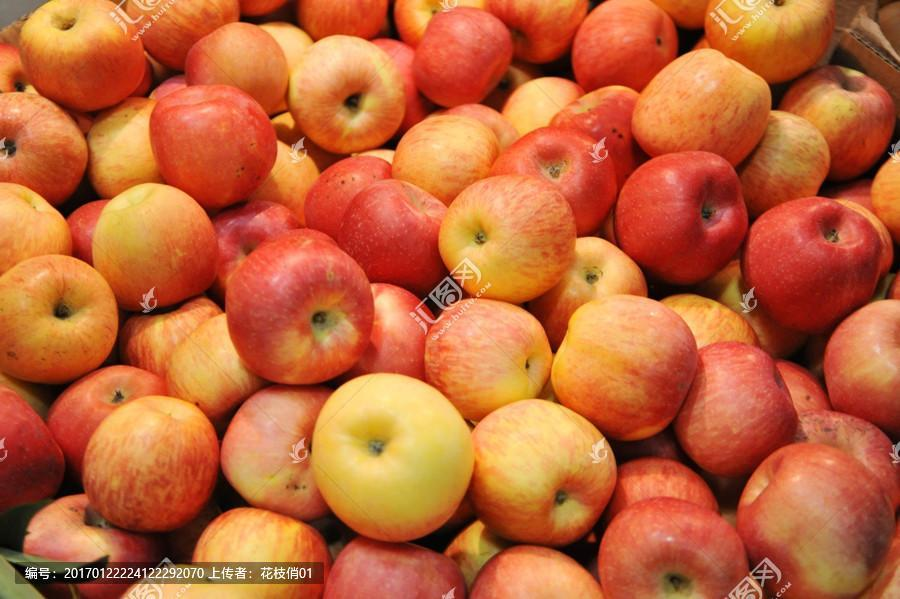apple: (310, 373, 474, 543), (734, 432, 895, 593), (222, 229, 375, 387), (551, 292, 697, 444), (743, 195, 888, 342), (612, 150, 749, 287), (81, 184, 221, 316), (437, 173, 577, 303), (76, 387, 207, 523), (423, 293, 555, 422), (148, 84, 273, 209), (1, 254, 121, 384), (288, 35, 417, 154), (15, 1, 151, 113), (597, 498, 750, 595), (337, 172, 451, 299), (777, 63, 894, 181), (20, 491, 170, 582), (818, 294, 899, 437), (705, 1, 837, 84), (182, 23, 292, 121), (413, 8, 513, 107), (1, 378, 65, 521), (355, 286, 437, 384), (126, 1, 242, 67)
